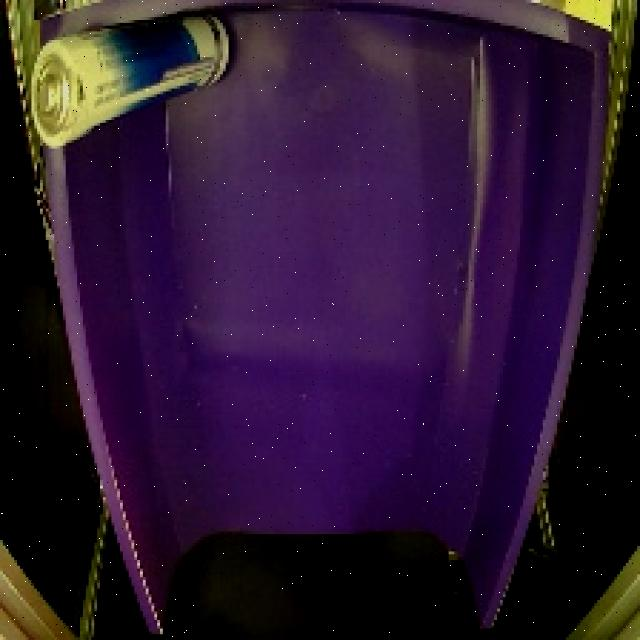battery: (24, 5, 241, 164)
